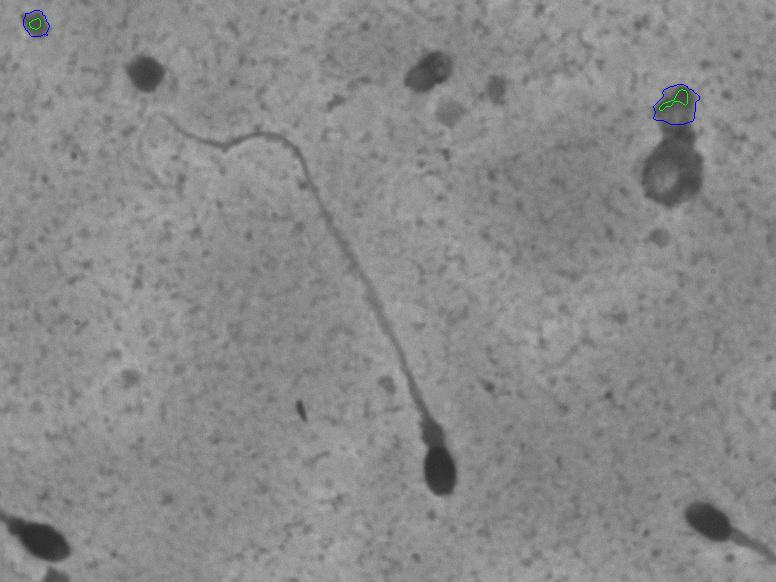Abnormal: (129, 101, 471, 516), (664, 470, 756, 571)
